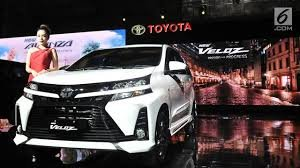mobil: (16, 43, 201, 156)
